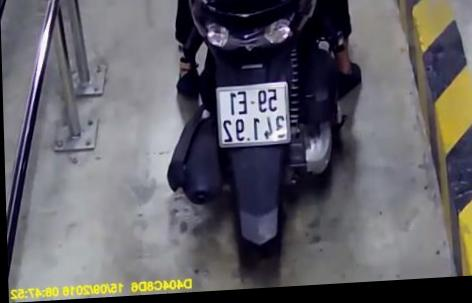License_Plate: (208, 81, 296, 150)
